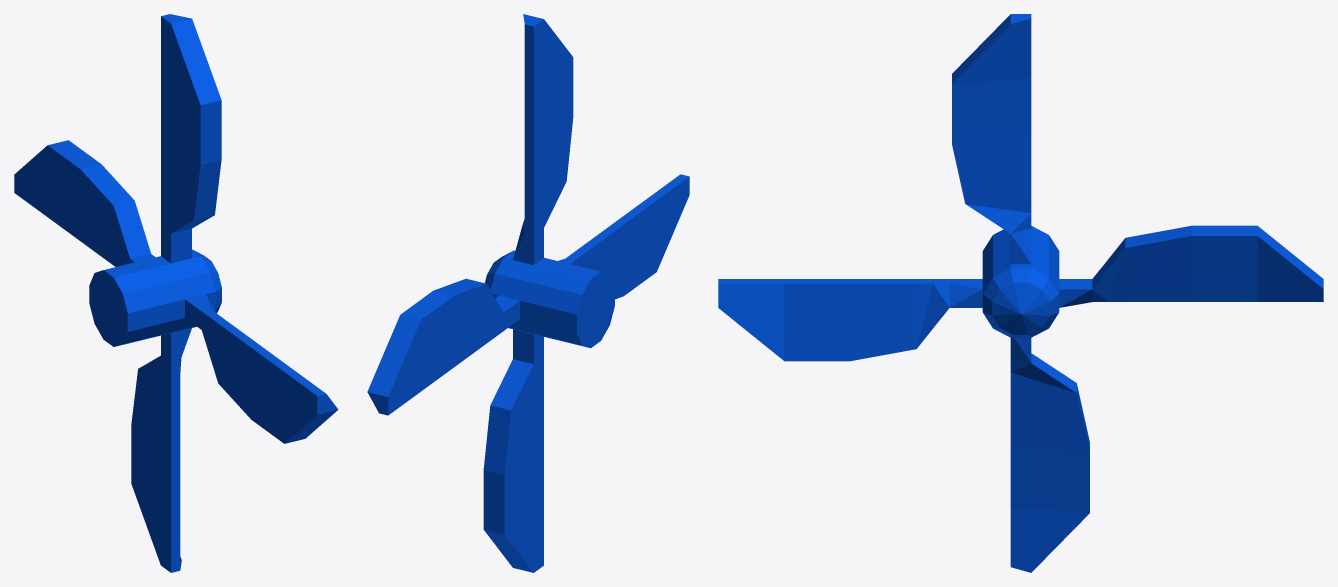
File: Fan.fbx
3 views of the same model, side by side, from view 1: azimuth 30°, elevation 25°; view 2: azimuth 150°, elevation 25°; view 3: azimuth 270°, elevation 25° (orthographic).
Parts seen in each view (by area): view 1: Fan; view 2: Fan; view 3: Fan.
Part boxes in pixels (left/top/right/bottom): Fan: left=14, top=14, right=338, bottom=572; Fan: left=367, top=14, right=689, bottom=572; Fan: left=718, top=14, right=1323, bottom=572.
Size of the model in its own units: 48.23 by 229 by 229.
